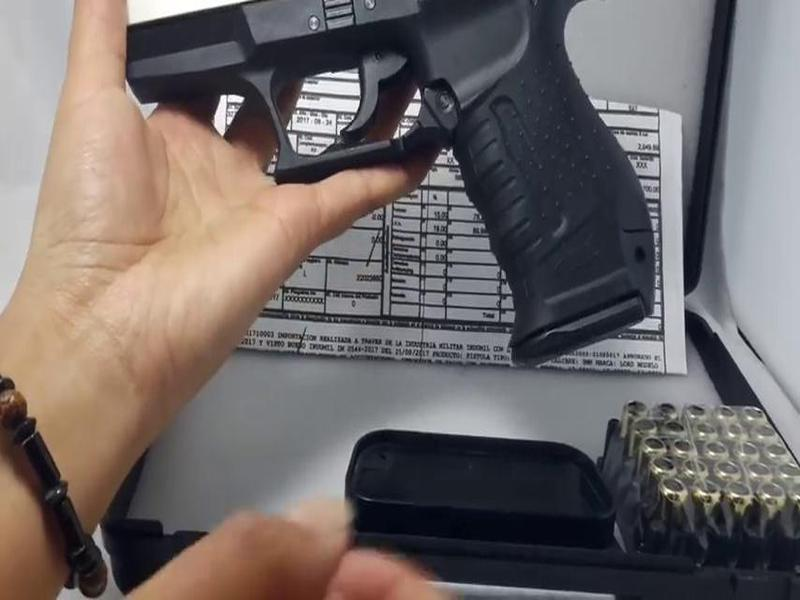Pistola: (132, 1, 684, 375)
